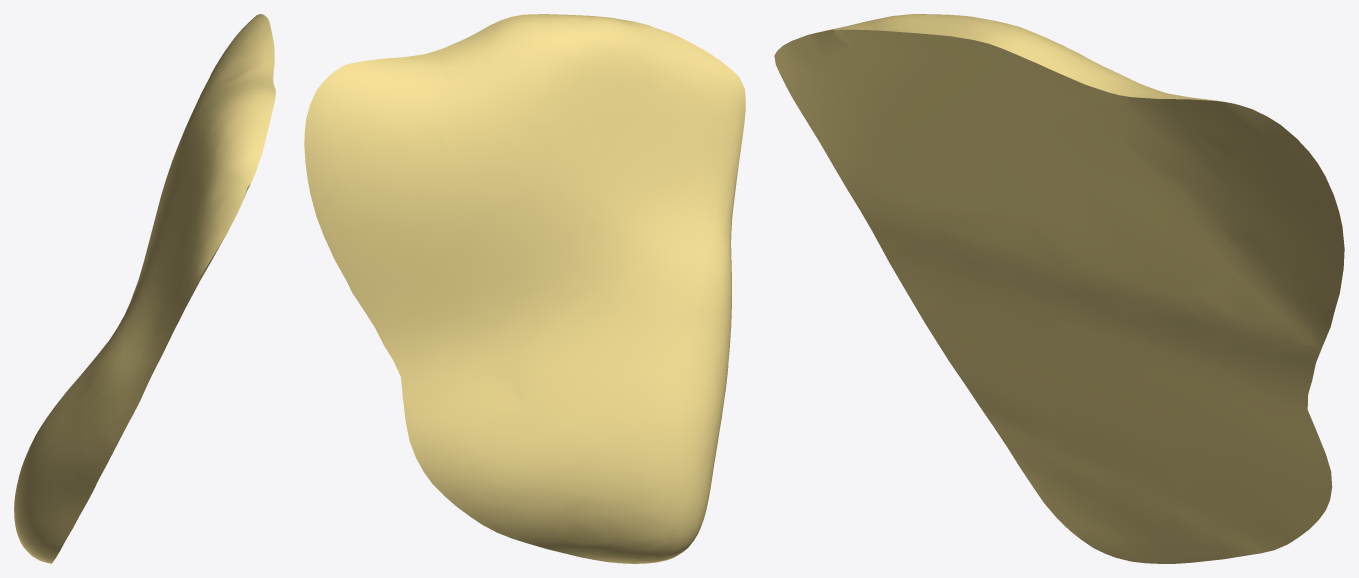
The model's file is fma76845-l_mm2746.glb.
3 renders of one model, left to right at view 1: azimuth 30°, elevation 25°; view 2: azimuth 150°, elevation 25°; view 3: azimuth 270°, elevation 25°, orthographic. The views are drawn at different scales.
Visible parts, largest first — view 1: FMA76845-L_MM2746; view 2: FMA76845-L_MM2746; view 3: FMA76845-L_MM2746.
Part boxes in pixels (x1,y1,x2,y2): FMA76845-L_MM2746: (14,14,275,563); FMA76845-L_MM2746: (304,14,745,563); FMA76845-L_MM2746: (774,14,1344,563).
Bounding box in the file's own units: 0.00904 × 0.0129 × 0.0104.
